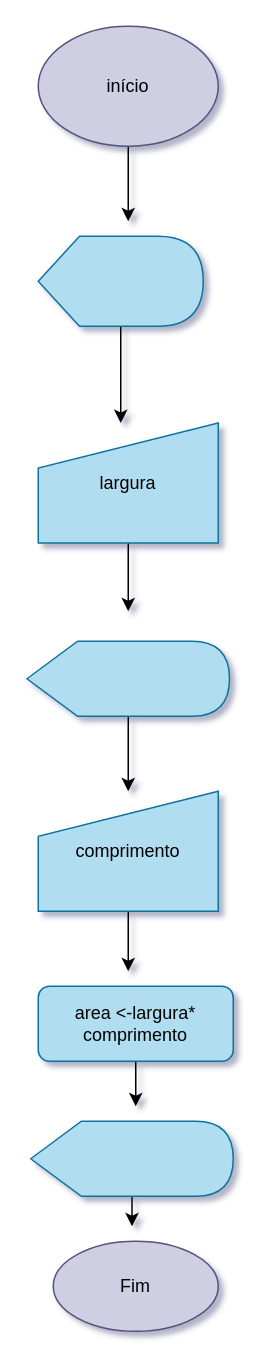
This 269x1367 diagram has some shape labels left out. Each missing label, with the box of its shape:
"area =", area: (29, 1120, 233, 1196)
"insira a largura": (37, 235, 203, 326)
"insira o comprimento": (26, 640, 230, 716)
